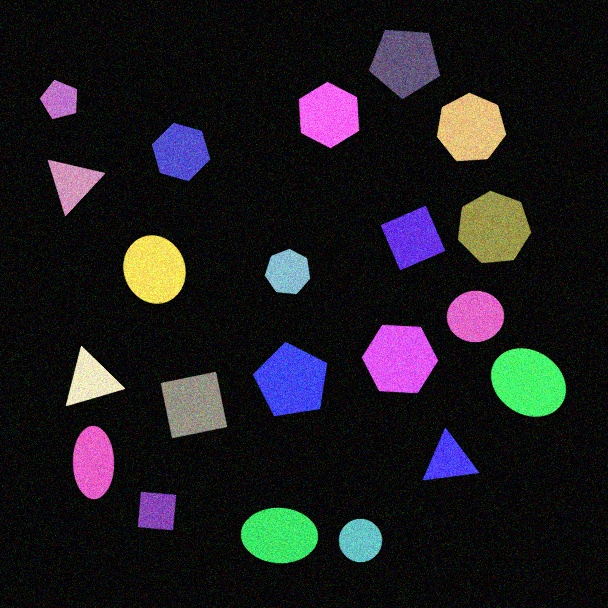Circulo: (122, 234, 187, 305), (446, 290, 505, 343), (338, 518, 383, 563)
Elipse: (490, 347, 567, 418), (240, 507, 319, 564), (72, 425, 115, 500)
Heptagono: (457, 190, 532, 264), (436, 92, 507, 162), (264, 248, 311, 295)
Hexagono: (361, 324, 439, 394), (298, 81, 360, 149), (151, 122, 211, 182)
Pentagono: (252, 341, 328, 417), (368, 29, 441, 100), (39, 79, 78, 120)
Quadrado: (160, 371, 228, 439), (380, 205, 446, 271), (137, 491, 177, 531)
Triangulo: (65, 345, 126, 407), (47, 159, 106, 217), (422, 428, 480, 481)
